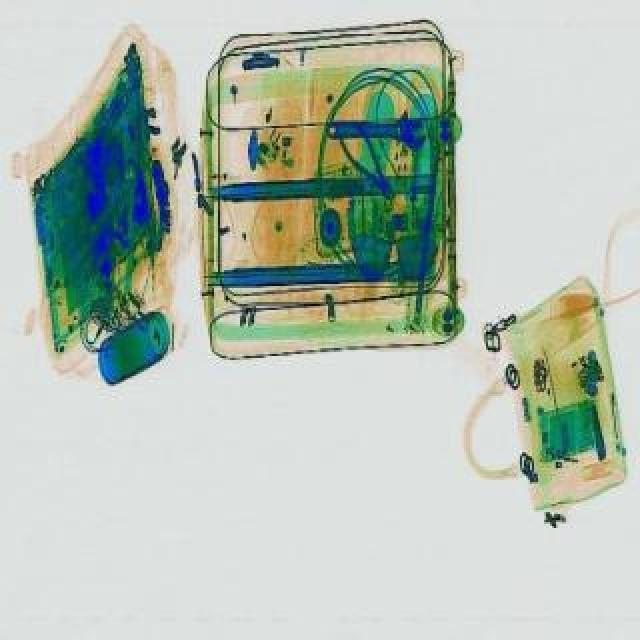scissors: (324, 114, 428, 148)
wrench: (332, 118, 408, 206)
